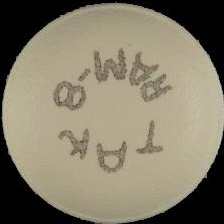63629-3389: (0, 0, 224, 224)
